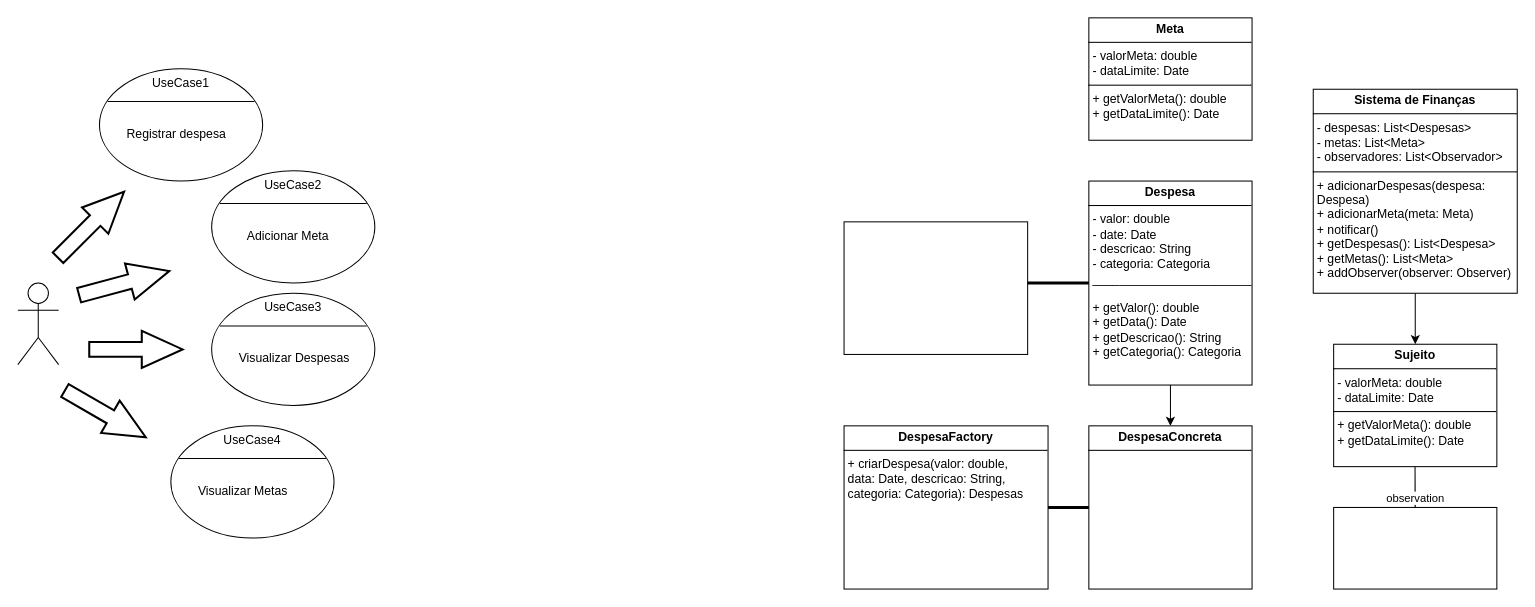
This 1535x607 diagram has some shape labels left out. The box of each missing label's shape, as (x1, y1, x2, y2) in pixels:
<<Interface>> Observer + atualizar(): void: (1333, 506, 1497, 589)
Categoria - nome: string + getNome(): string: (843, 221, 1028, 354)
João: (17, 282, 59, 365)
